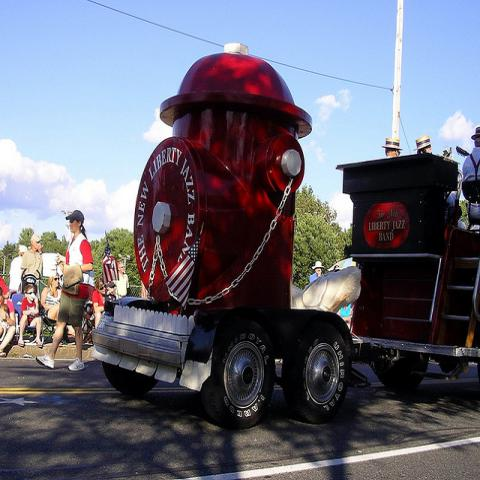truck: (338, 152, 480, 403)
